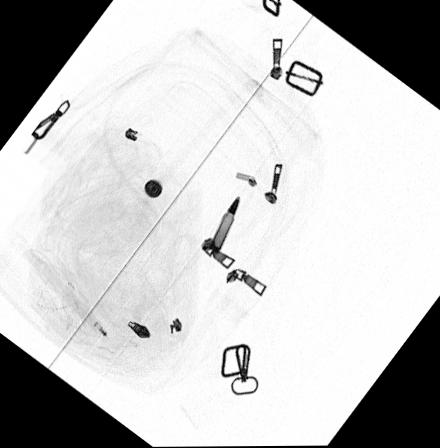Bullet: (207, 196, 240, 254)
